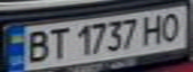1: (72, 21, 93, 56)
3: (106, 18, 127, 53)
7: (87, 20, 109, 55), (121, 16, 142, 50)
B: (21, 28, 54, 64)
H: (139, 11, 169, 46)
O: (157, 9, 187, 43)
T: (45, 26, 69, 61)
